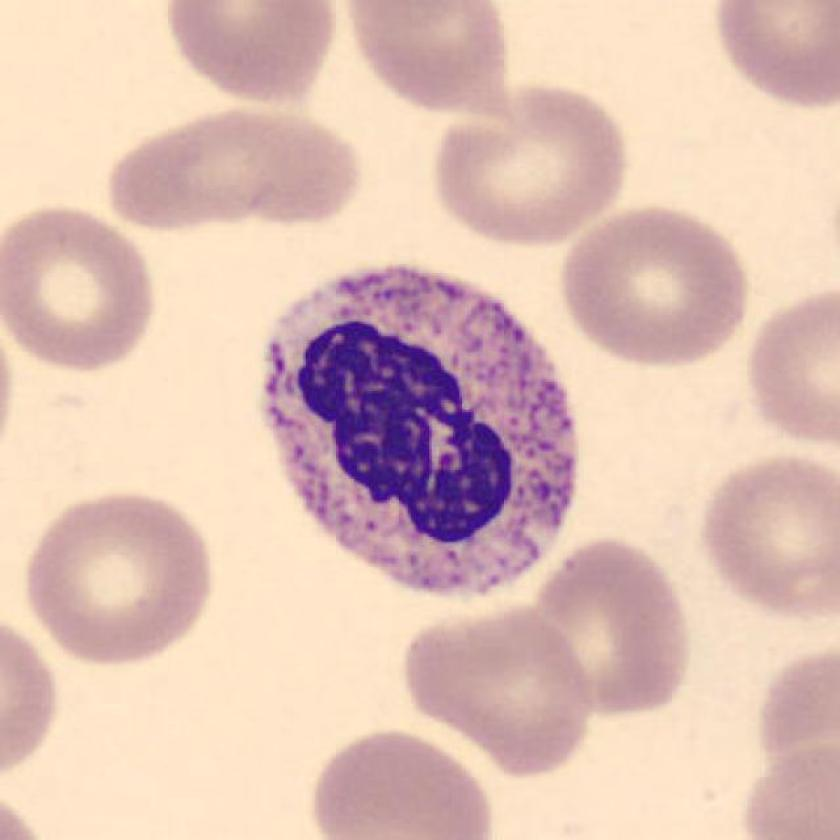neutrophil: (266, 268, 577, 600)
